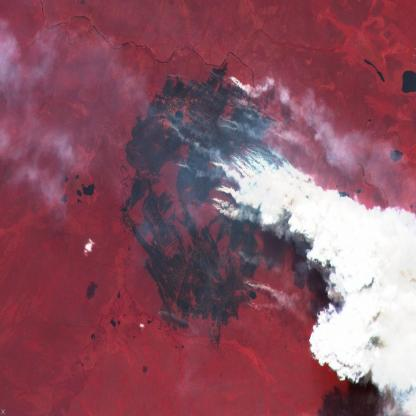fire: (151, 65, 313, 320)
